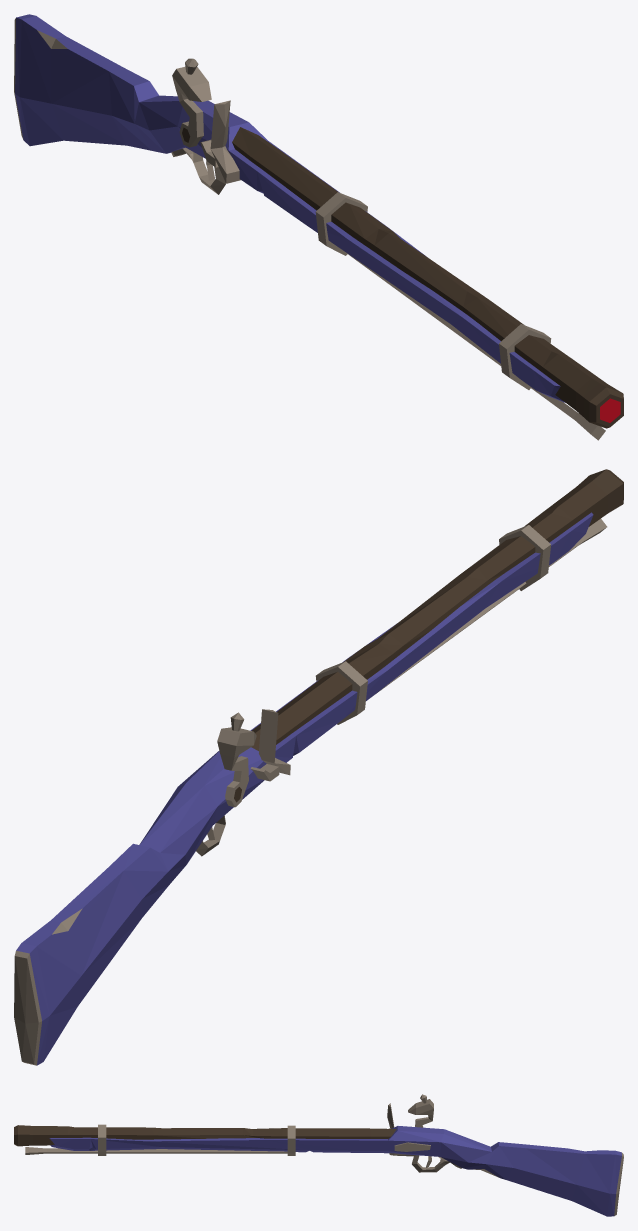
Rendered from SM_Wep_Rifle_01_Separate.glb.
The picture shows the model from 3 angles, top to bottom: view 1: azimuth 30°, elevation 25°; view 2: azimuth 150°, elevation 25°; view 3: azimuth 270°, elevation 25°; orthographic projection. The views are drawn at different scales.
Parts seen in each view (by area): view 1: SM_Wep_Rifle_01_Separate_00, SM_Wep_Rifle_01_Separate_01; view 2: SM_Wep_Rifle_01_Separate_00, SM_Wep_Rifle_01_Separate_01; view 3: SM_Wep_Rifle_01_Separate_00, SM_Wep_Rifle_01_Separate_01.
Part boxes in pixels (left/top/right/bottom): SM_Wep_Rifle_01_Separate_00: left=14, top=14, right=623, bottom=440; SM_Wep_Rifle_01_Separate_01: left=172, top=58, right=211, bottom=147; SM_Wep_Rifle_01_Separate_00: left=14, top=469, right=623, bottom=1065; SM_Wep_Rifle_01_Separate_01: left=217, top=712, right=256, bottom=807; SM_Wep_Rifle_01_Separate_00: left=14, top=1103, right=623, bottom=1216; SM_Wep_Rifle_01_Separate_01: left=408, top=1094, right=433, bottom=1127.
Size of the model in its own units: 0.0828 by 0.3242 by 1.56.
1 material, 1 textured.
